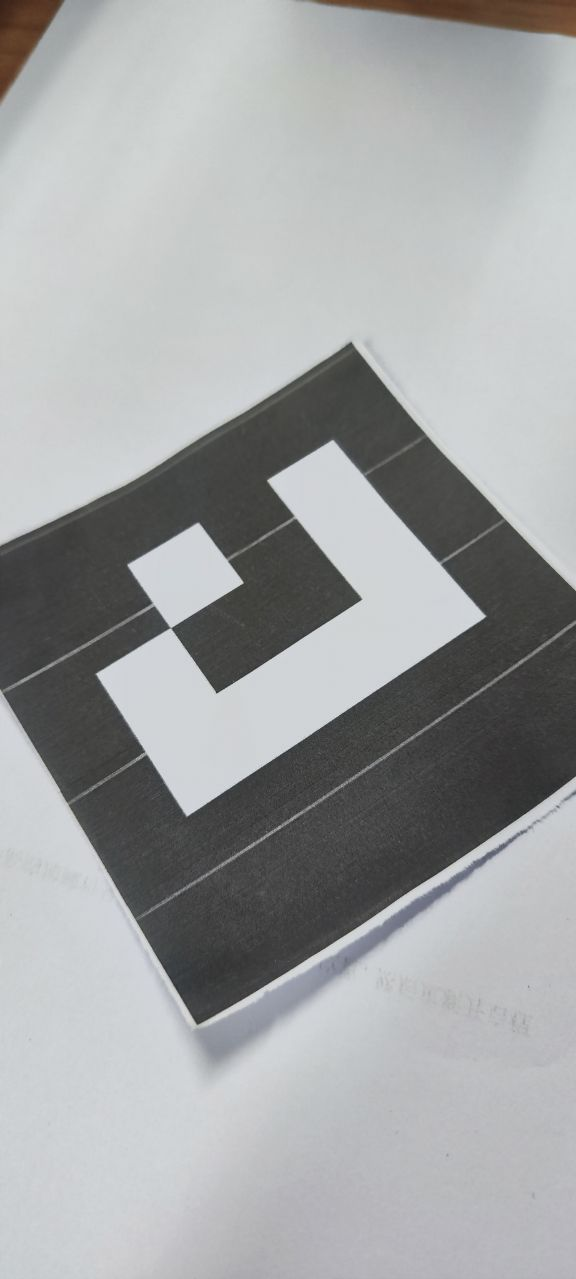mark1: (94, 432, 494, 823)
